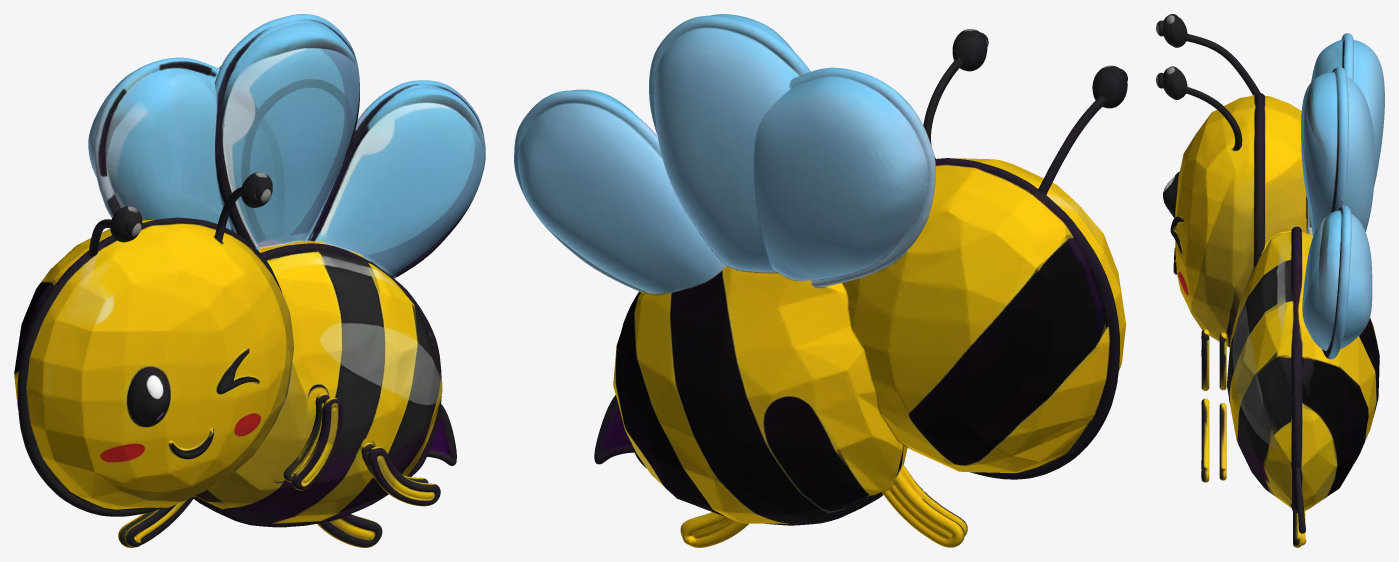
The model's file is Ape.glb.
3 views of the same model, side by side, from view 1: azimuth 30°, elevation 25°; view 2: azimuth 150°, elevation 25°; view 3: azimuth 270°, elevation 25° (orthographic). The views are drawn at different scales.
Size of the model in its own units: 1.9 by 1.85 by 0.8588.
Materials: 1 (1 with a texture image).
